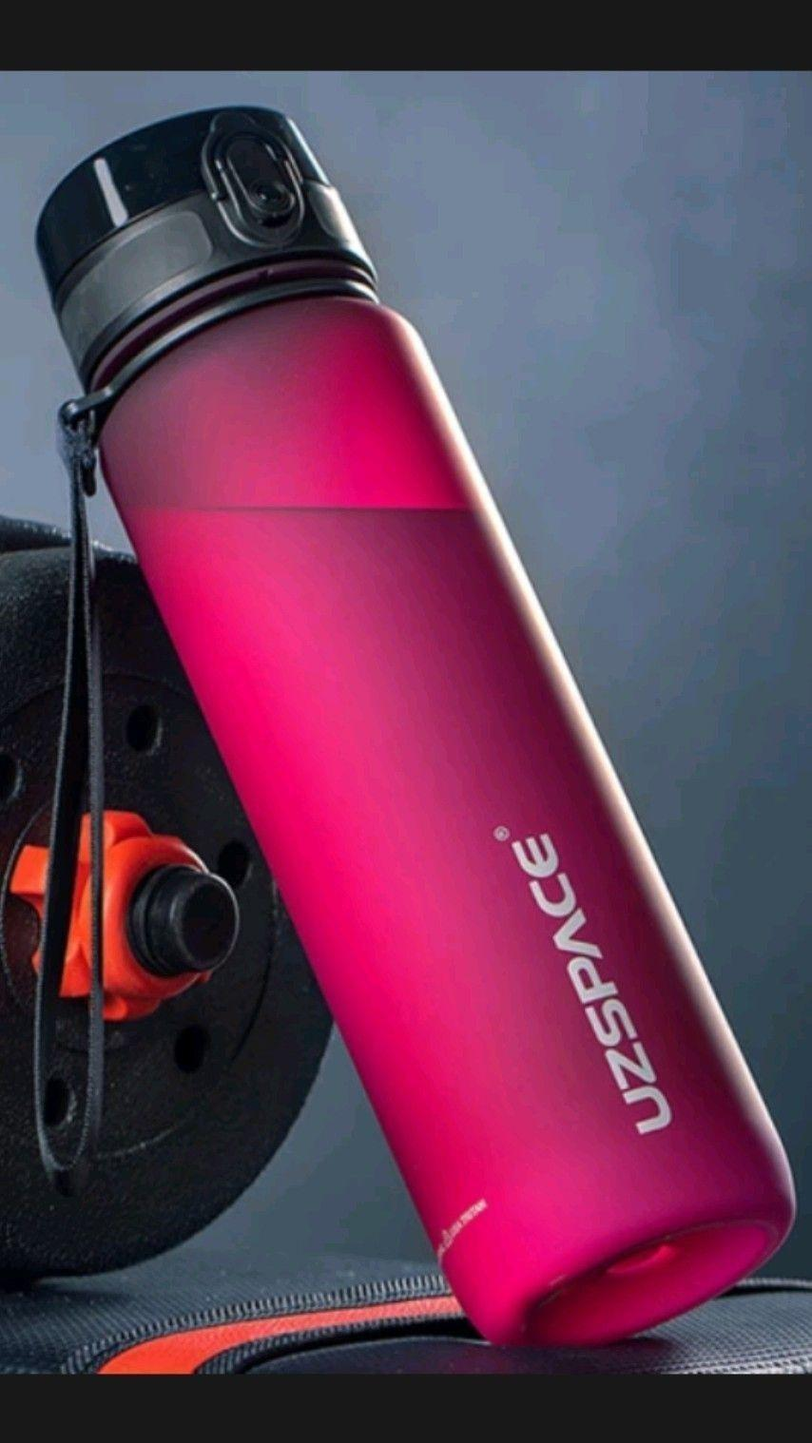gym bottle: (36, 100, 805, 1354)
